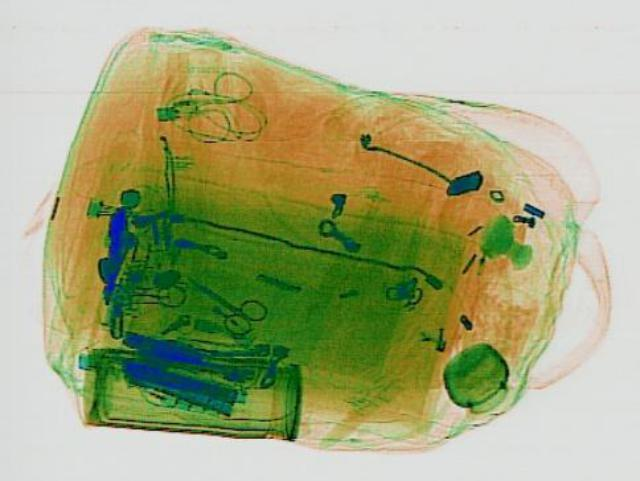Scissors: (168, 264, 274, 335)
